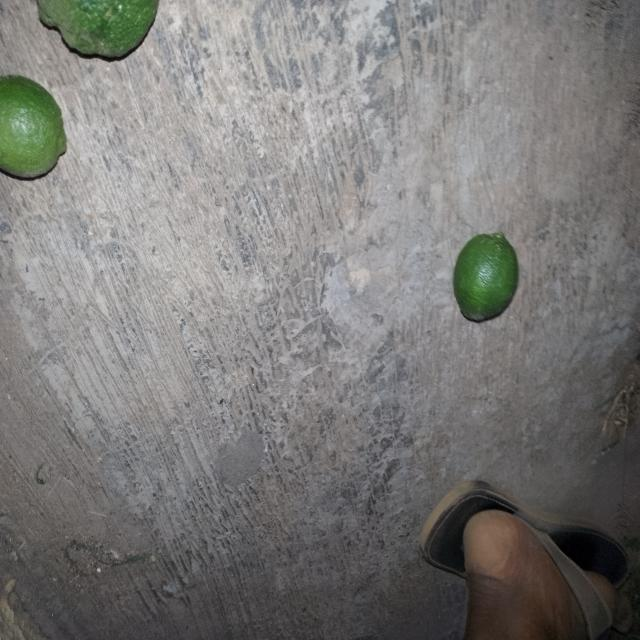Unripe: (446, 215, 536, 347), (4, 58, 74, 203)
